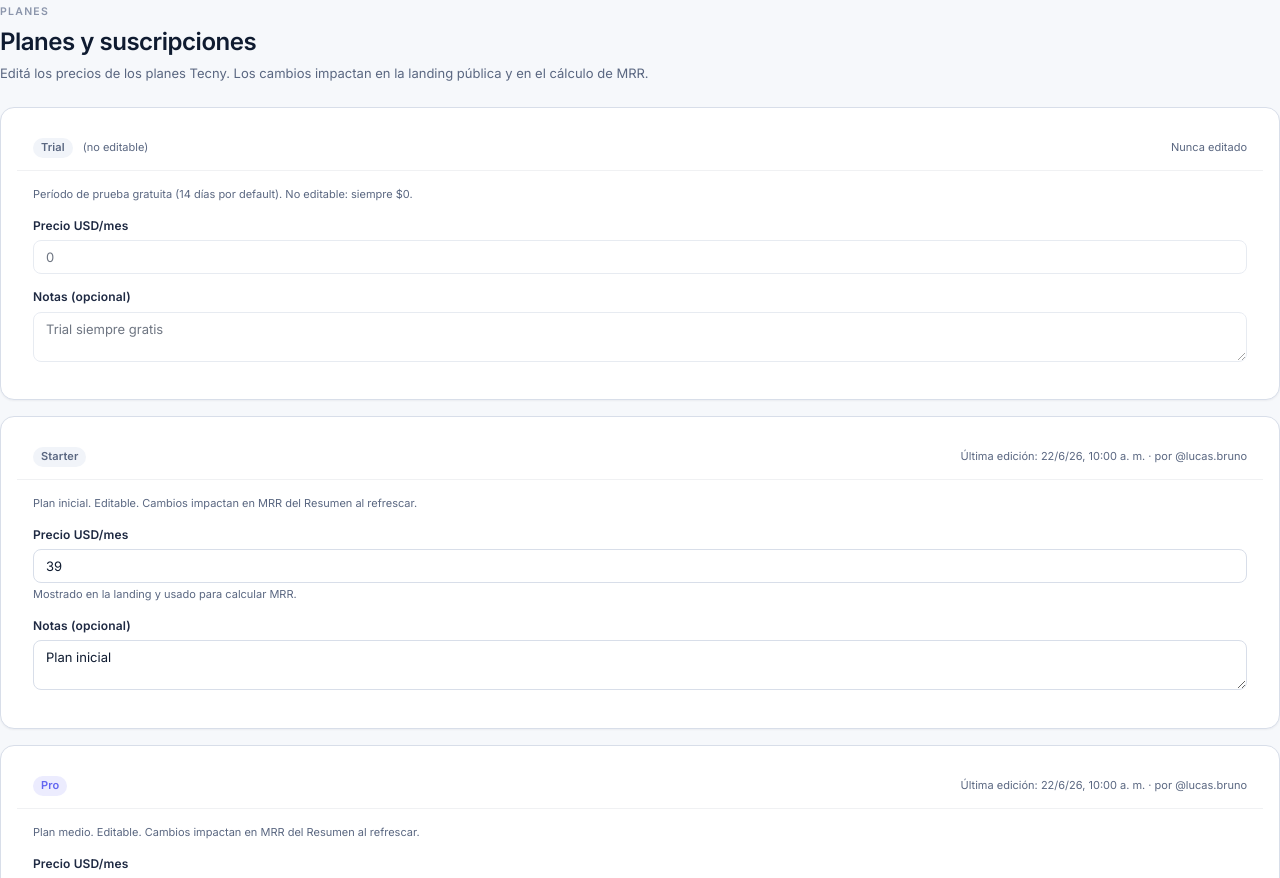
Planes › confirmar dispara PATCH con price_usd + reason
Replace the text in the number field named "Precio del plan starter" with "49" at x=640, y=566, box [33,549,1247,583]
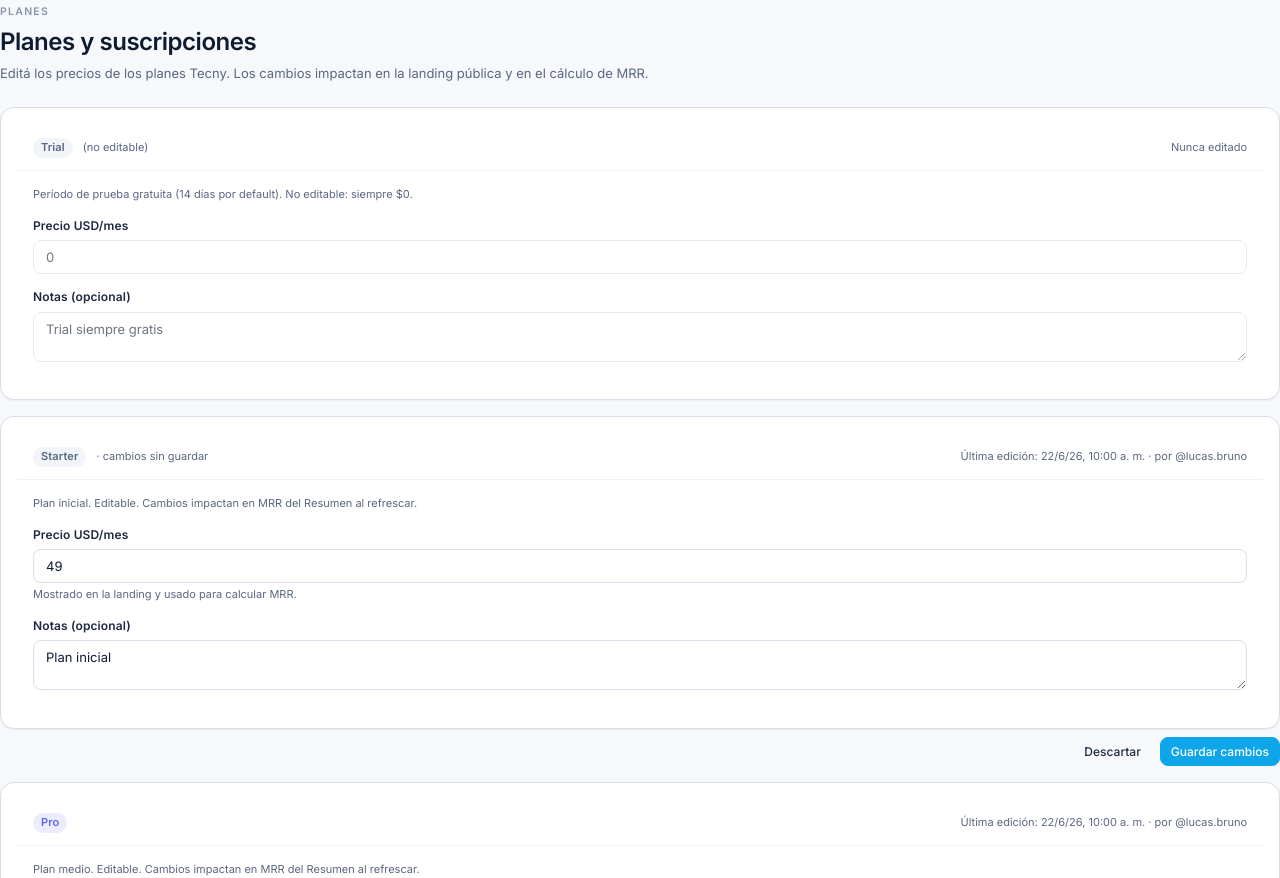
Click the button "Guardar cambios" at x=1220, y=751, box [1160,737,1279,766]
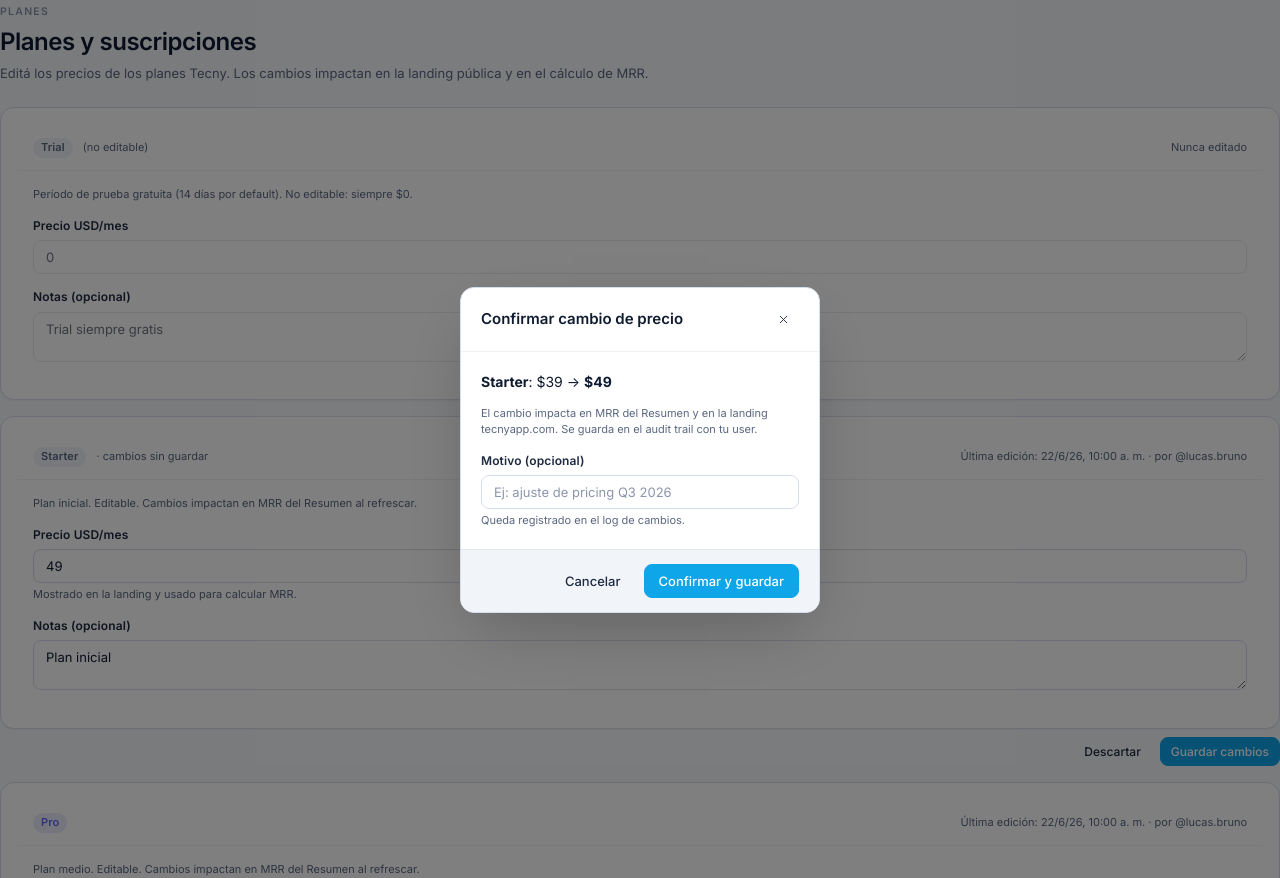
Tipear motivo en el modal.
Type "ajuste Q3" into the field labelled "Motivo (opcional)" at x=640, y=492, box [481,475,799,509]
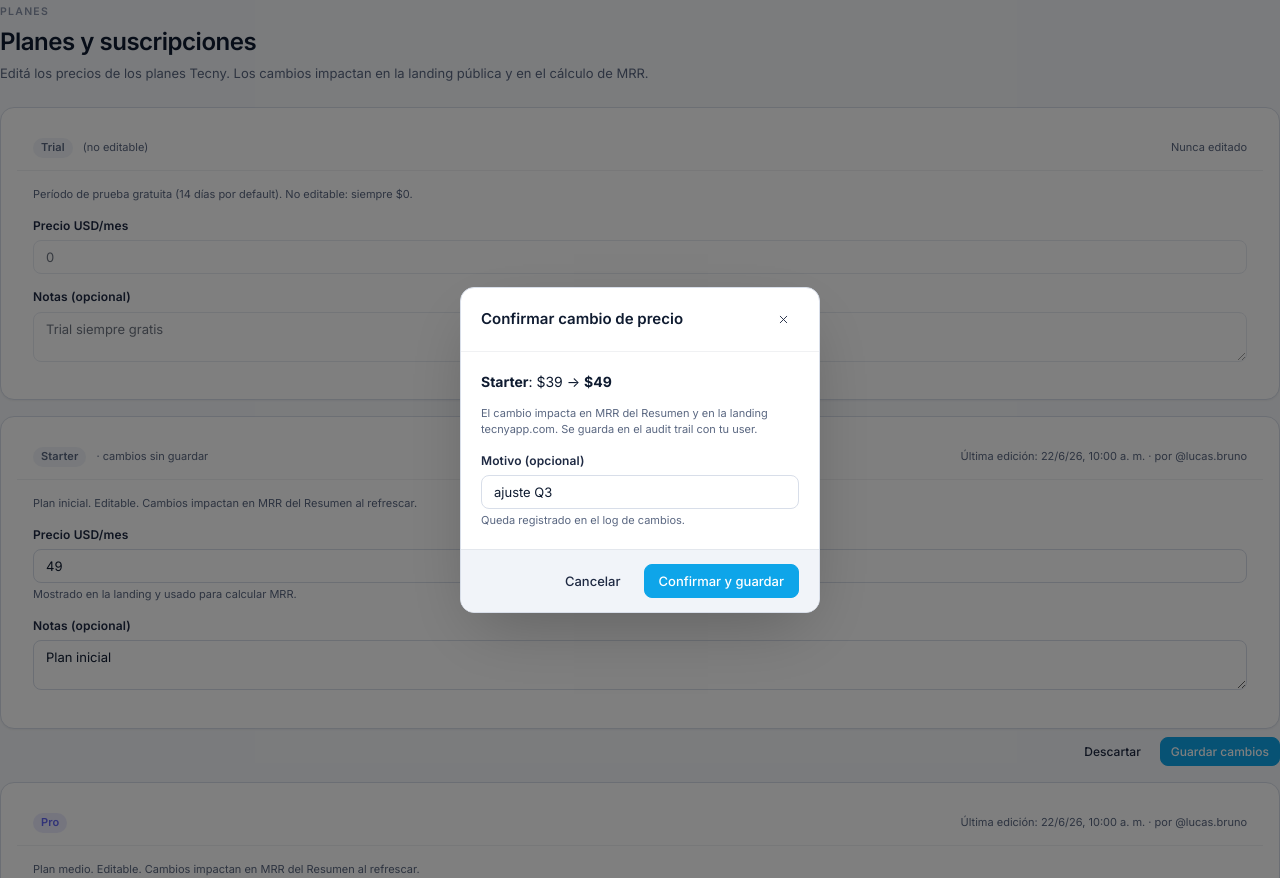
Click the button "Confirmar y guardar" at x=721, y=581, box [644,564,799,598]
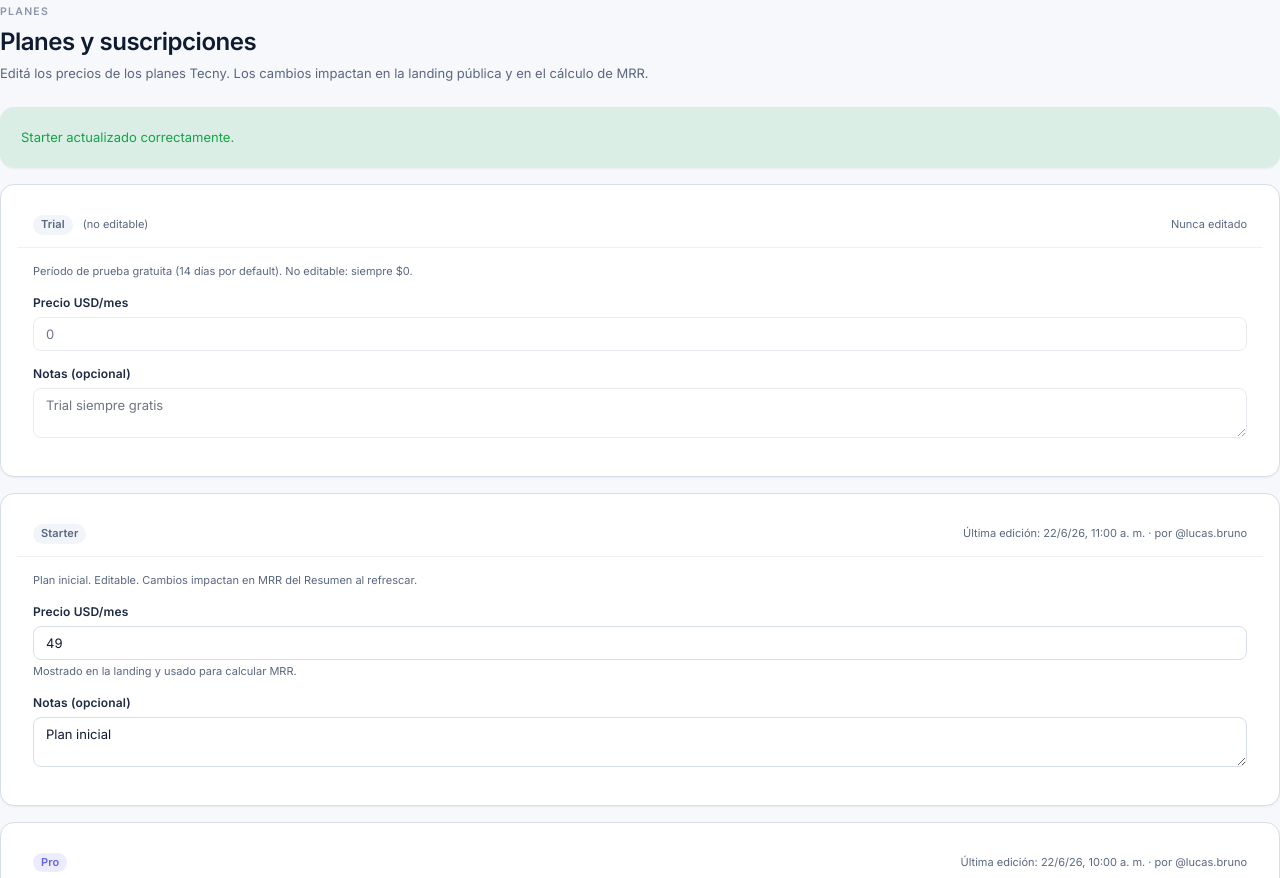
Expected: the text "Starter actualizado correctamente." is shown, [0,107,1279,168]
